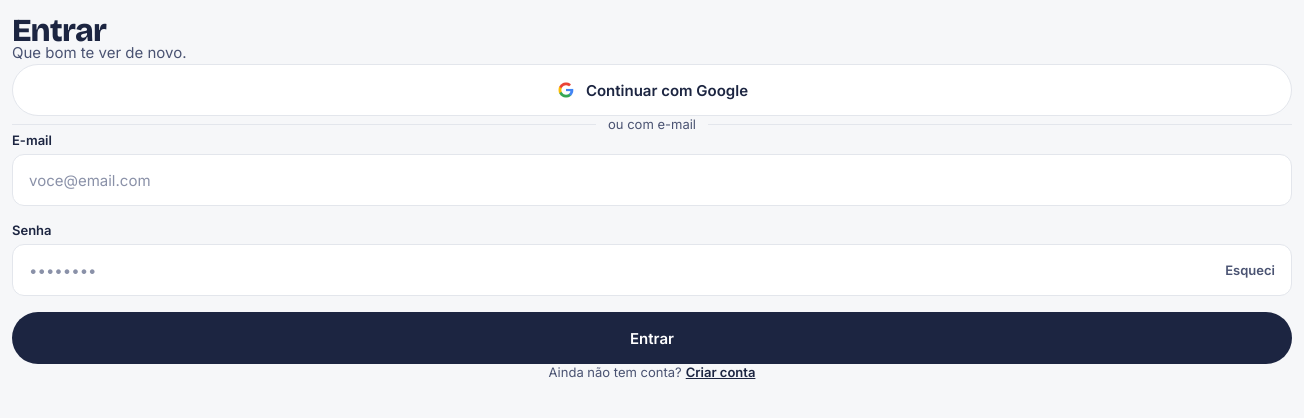
Test: ca12: unavailable Google explains the alternative without attempting an invalid provider handshake
Click the button "Continuar com Google" at coordinates (652, 90), box [12,64,1292,116]
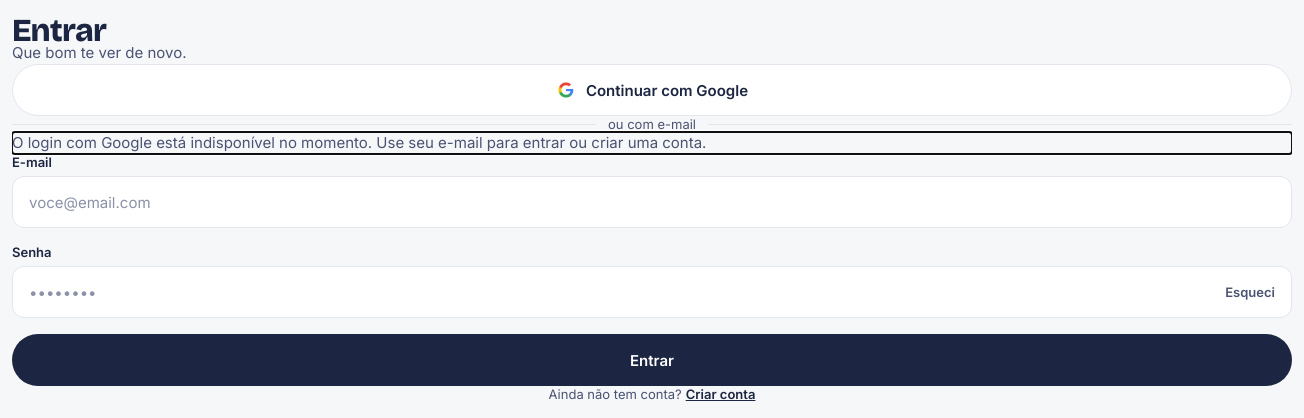
Expected: the message shows "O login com Google está indisponível no momento. Use seu e-mail para entrar ou criar uma conta.", [12,133,706,152]
